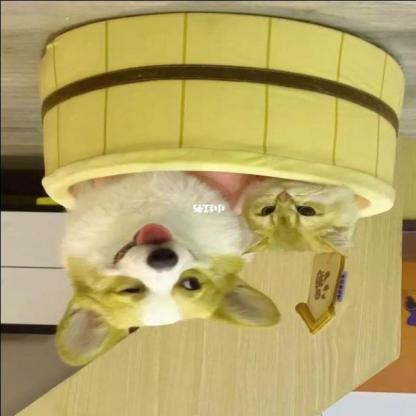cat: (235, 178, 364, 256)
dog: (52, 176, 278, 338)
